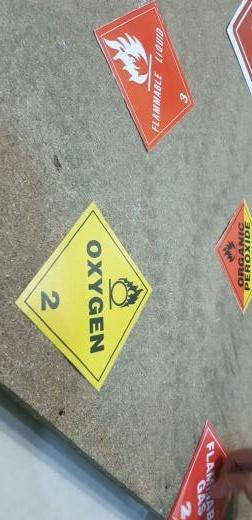flammable: (92, 5, 199, 164), (166, 422, 238, 518)
organic-peroxide: (211, 194, 251, 320)
oxidizer: (10, 195, 156, 401)
